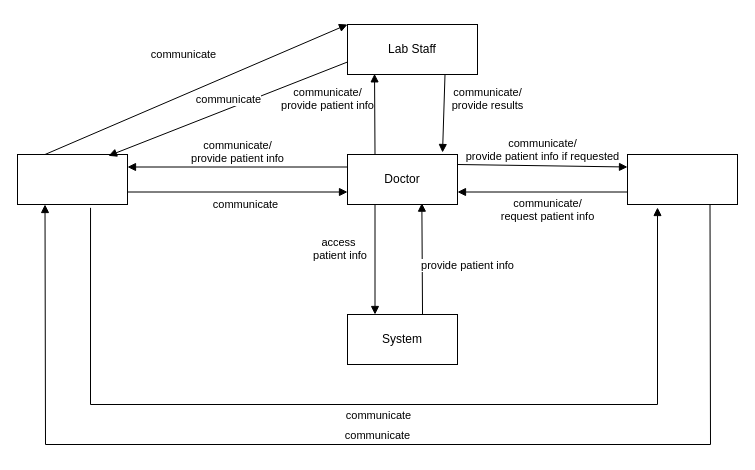
Image size: 755x470. Some labels were removed from this diagram. The centre of each missing label's shape, as x and y in pixels:
Nurse: point (682, 179)
Pharmacist: point (72, 179)
